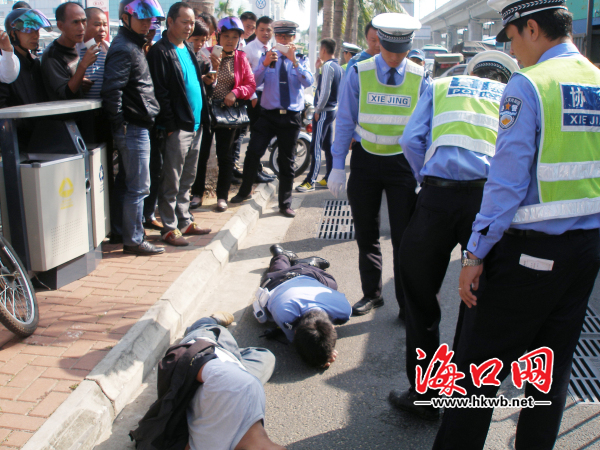10+: (6, 1, 600, 417)
down: (129, 310, 282, 450), (248, 230, 358, 371)
